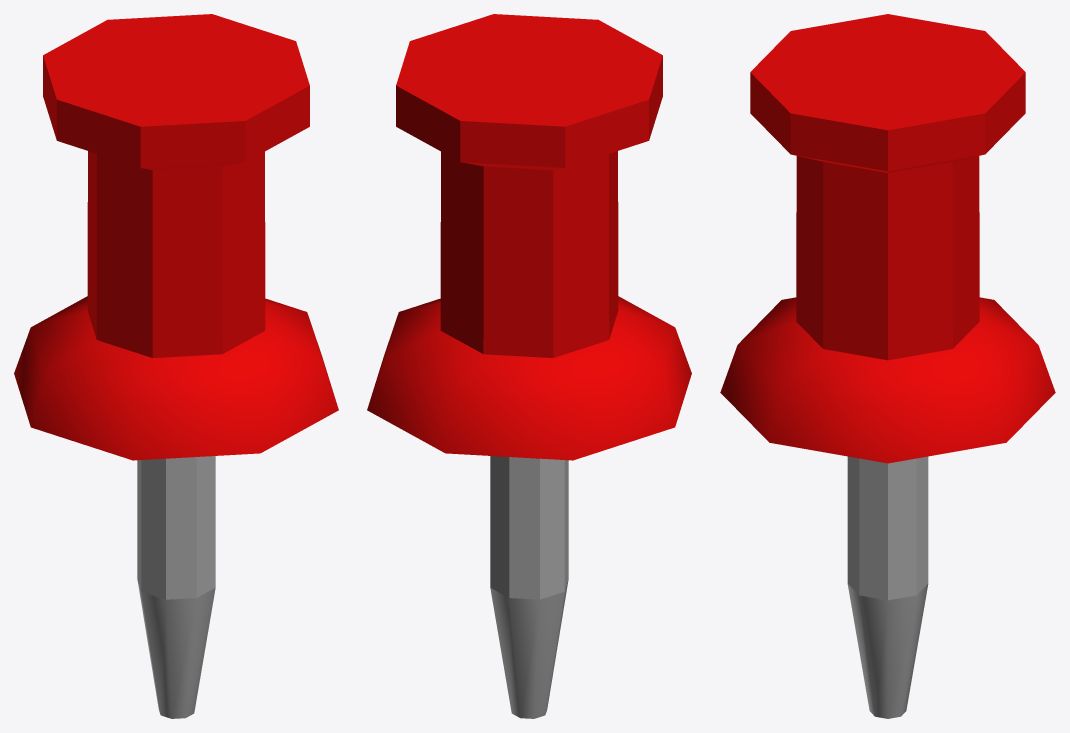
File: TackSingle.fbx
3 renders of one model, left to right at view 1: azimuth 30°, elevation 25°; view 2: azimuth 150°, elevation 25°; view 3: azimuth 270°, elevation 25°, orthographic.
Visible parts, largest first — view 1: pCylinder1; view 2: pCylinder1; view 3: pCylinder1.
Part boxes in pixels (x1=…): pCylinder1: x1=14, y1=14, x2=338, y2=718; pCylinder1: x1=367, y1=14, x2=691, y2=718; pCylinder1: x1=720, y1=14, x2=1055, y2=718.
Bounding box in the file's own units: 8.29 × 17.43 × 8.29.
